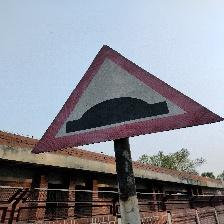Speed-breaker: (32, 45, 223, 152)
